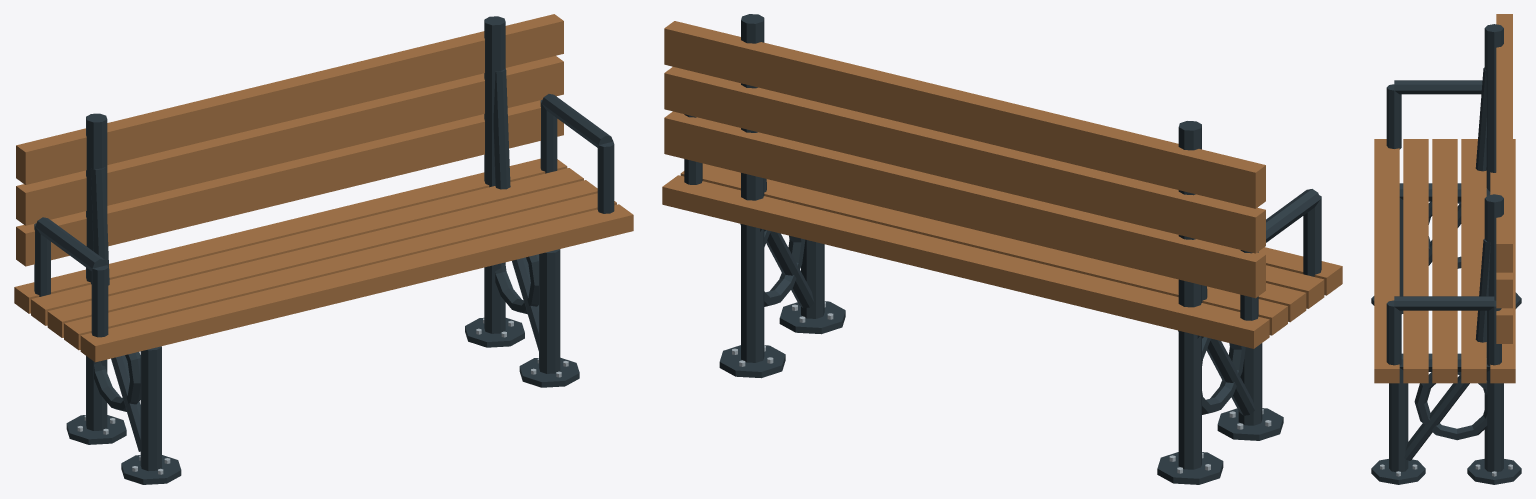
File: b01_cast_iron_park_bench.glb
3 renders of one model, left to right at view 1: azimuth 30°, elevation 25°; view 2: azimuth 150°, elevation 25°; view 3: azimuth 270°, elevation 25°, orthographic. The views are drawn at different scales.
Parts seen in each view (by area): view 1: b01_cast_iron_park_bench; view 2: b01_cast_iron_park_bench; view 3: b01_cast_iron_park_bench.
Boxes of the visible parts, bbox=[...] form: b01_cast_iron_park_bench: bbox=[14, 14, 633, 484]; b01_cast_iron_park_bench: bbox=[662, 14, 1342, 484]; b01_cast_iron_park_bench: bbox=[1371, 14, 1521, 484].
Bounding box in the file's own units: 1.8 × 1 × 0.4968.
